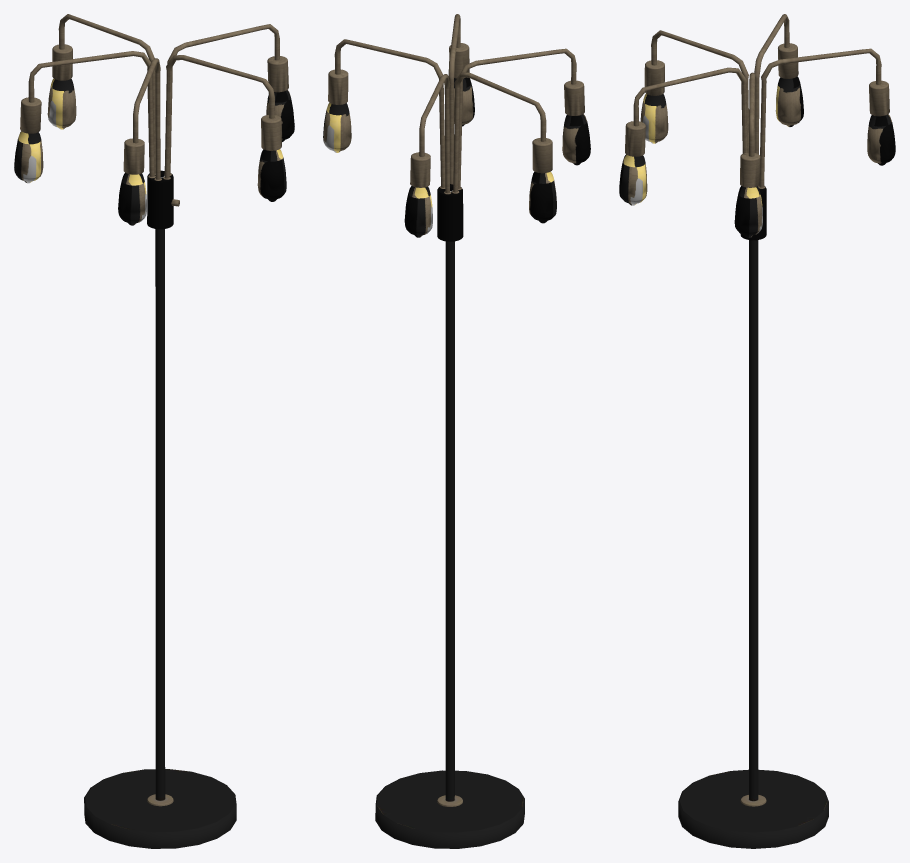
File: B073P25SXR.glb
3 views of the same model, side by side, from view 1: azimuth 30°, elevation 25°; view 2: azimuth 150°, elevation 25°; view 3: azimuth 270°, elevation 25° (orthographic). The views are drawn at different scales.
Visible parts, largest first — view 1: "$ANODCLAMMGBAAAAAICBAAAAAAAAAAIFMFKIC"; view 2: "$ANODCLAMMGBAAAAAICBAAAAAAAAAAIFMFKIC"; view 3: "$ANODCLAMMGBAAAAAICBAAAAAAAAAAIFMFKIC".
Boxes of the visible parts, bbox=[...] form: "$ANODCLAMMGBAAAAAICBAAAAAAAAAAIFMFKIC": bbox=[14, 14, 294, 848]; "$ANODCLAMMGBAAAAAICBAAAAAAAAAAIFMFKIC": bbox=[323, 14, 590, 848]; "$ANODCLAMMGBAAAAAICBAAAAAAAAAAIFMFKIC": bbox=[619, 14, 895, 848].
Bounding box in the file's own units: 0.5989 × 1.72 × 0.5716.
1 material, 1 textured.
